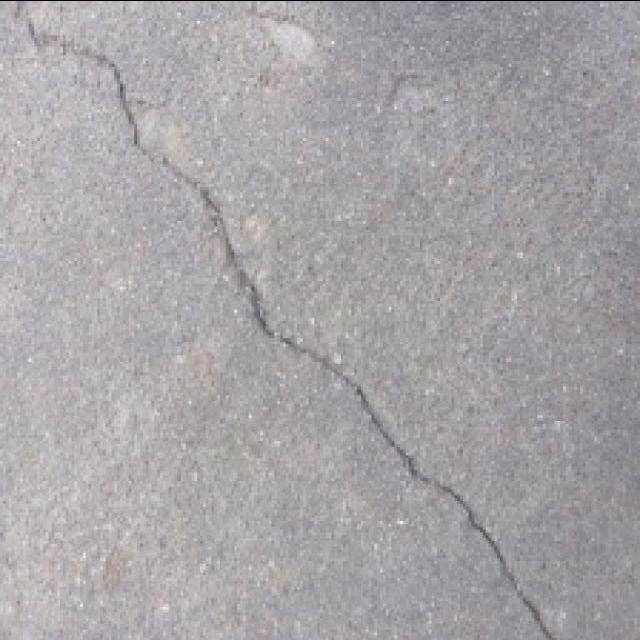SurfaceCrack: (6, 0, 566, 640)
